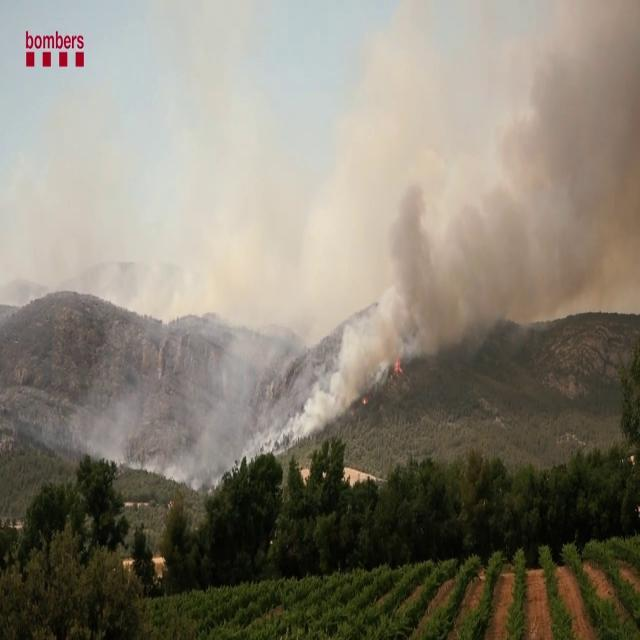Smoke: (338, 1, 640, 394), (58, 247, 276, 502)
